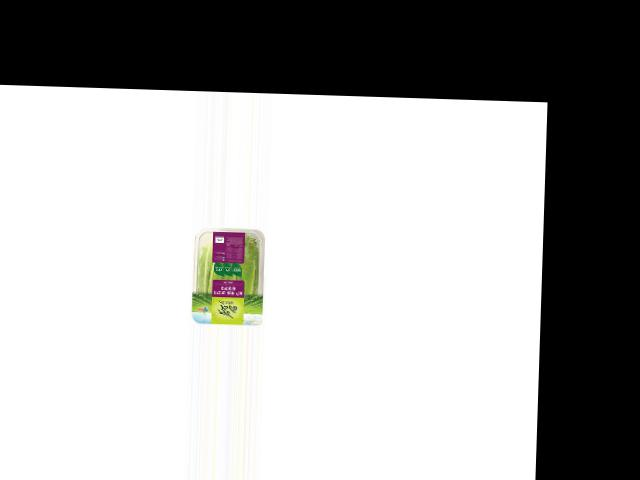lettuce: (190, 226, 265, 318)
